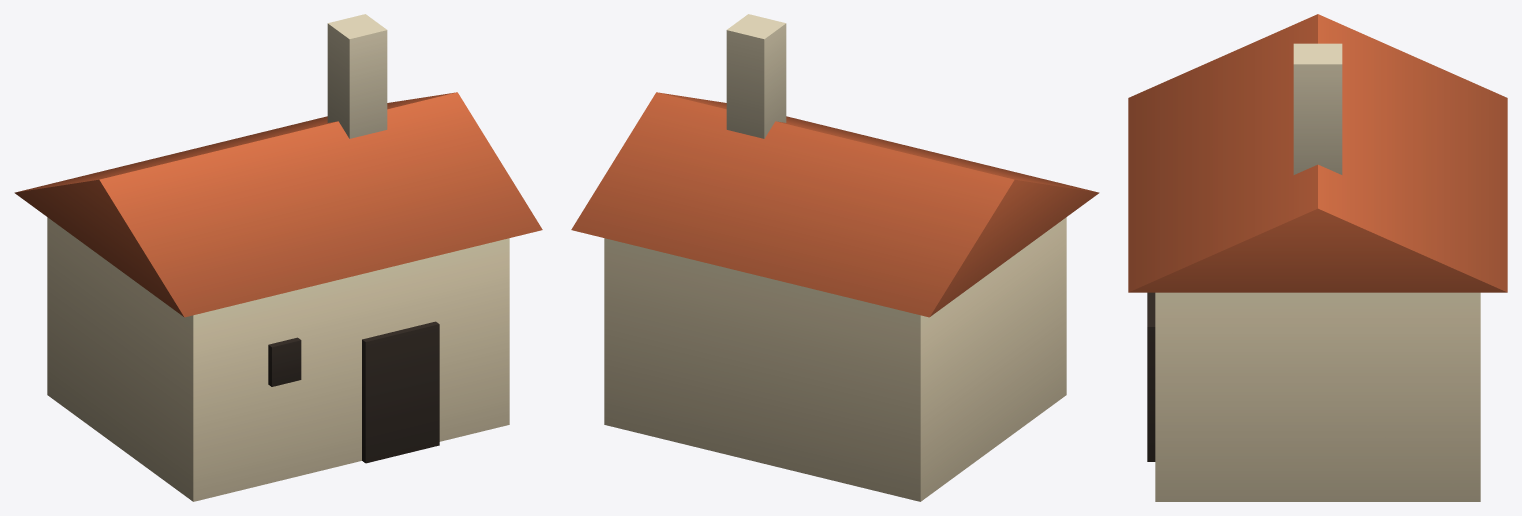
File: house_ME_3b.glb
3 renders of one model, left to right at view 1: azimuth 30°, elevation 25°; view 2: azimuth 150°, elevation 25°; view 3: azimuth 270°, elevation 25°, orthographic. The views are drawn at different scales.
Parts seen in each view (by area): view 1: Body; view 2: Body; view 3: Body.
Part boxes in pixels (box(x1,y1,x2,y2)): Body: box(14, 14, 542, 501); Body: box(571, 14, 1099, 501); Body: box(1128, 14, 1507, 501).
Bounding box in the file's own units: 1.7 × 1.65 × 1.4.
1 material, 1 textured.
